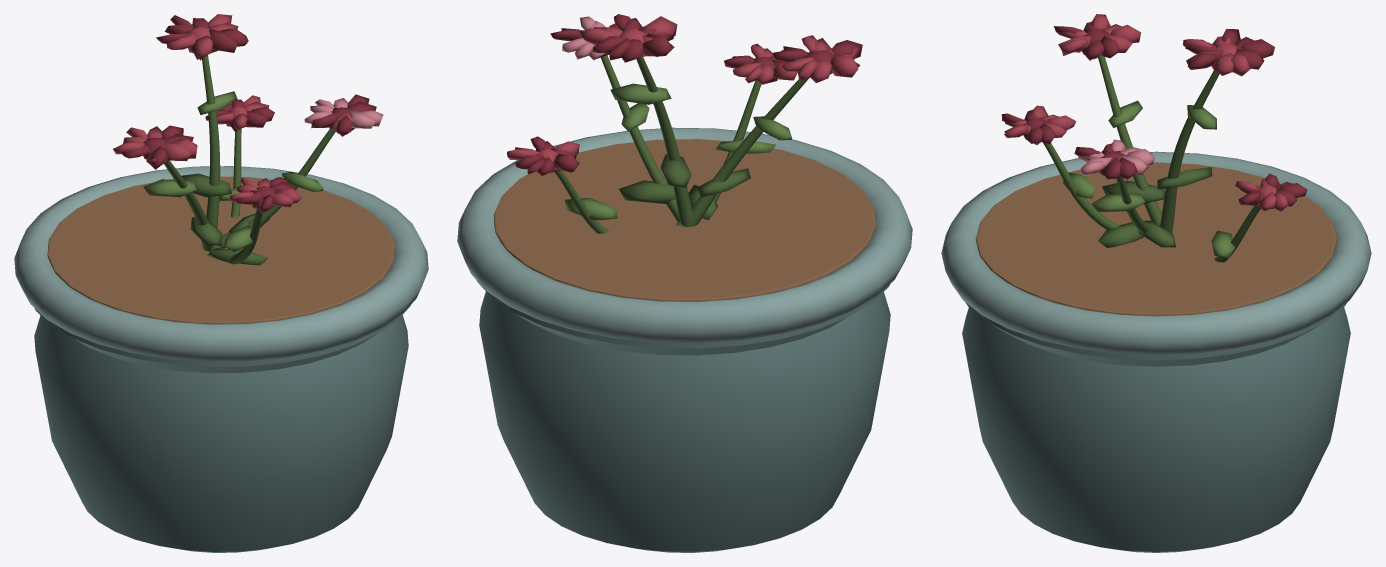
Rendered from rose_planter.glb.
3 views of the same model, side by side, from view 1: azimuth 30°, elevation 25°; view 2: azimuth 150°, elevation 25°; view 3: azimuth 270°, elevation 25° (orthographic). The views are drawn at different scales.
Parts seen in each view (by area): view 1: rose_planter; view 2: rose_planter; view 3: rose_planter.
Part boxes in pixels (x1=…): rose_planter: x1=14, y1=14, x2=428, y2=552; rose_planter: x1=457, y1=14, x2=912, y2=552; rose_planter: x1=941, y1=14, x2=1371, y2=552.
Size of the model in its own units: 0.498 by 0.5997 by 0.498.
